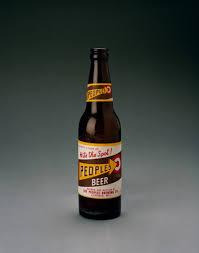Glass bottle: (73, 39, 132, 218)
